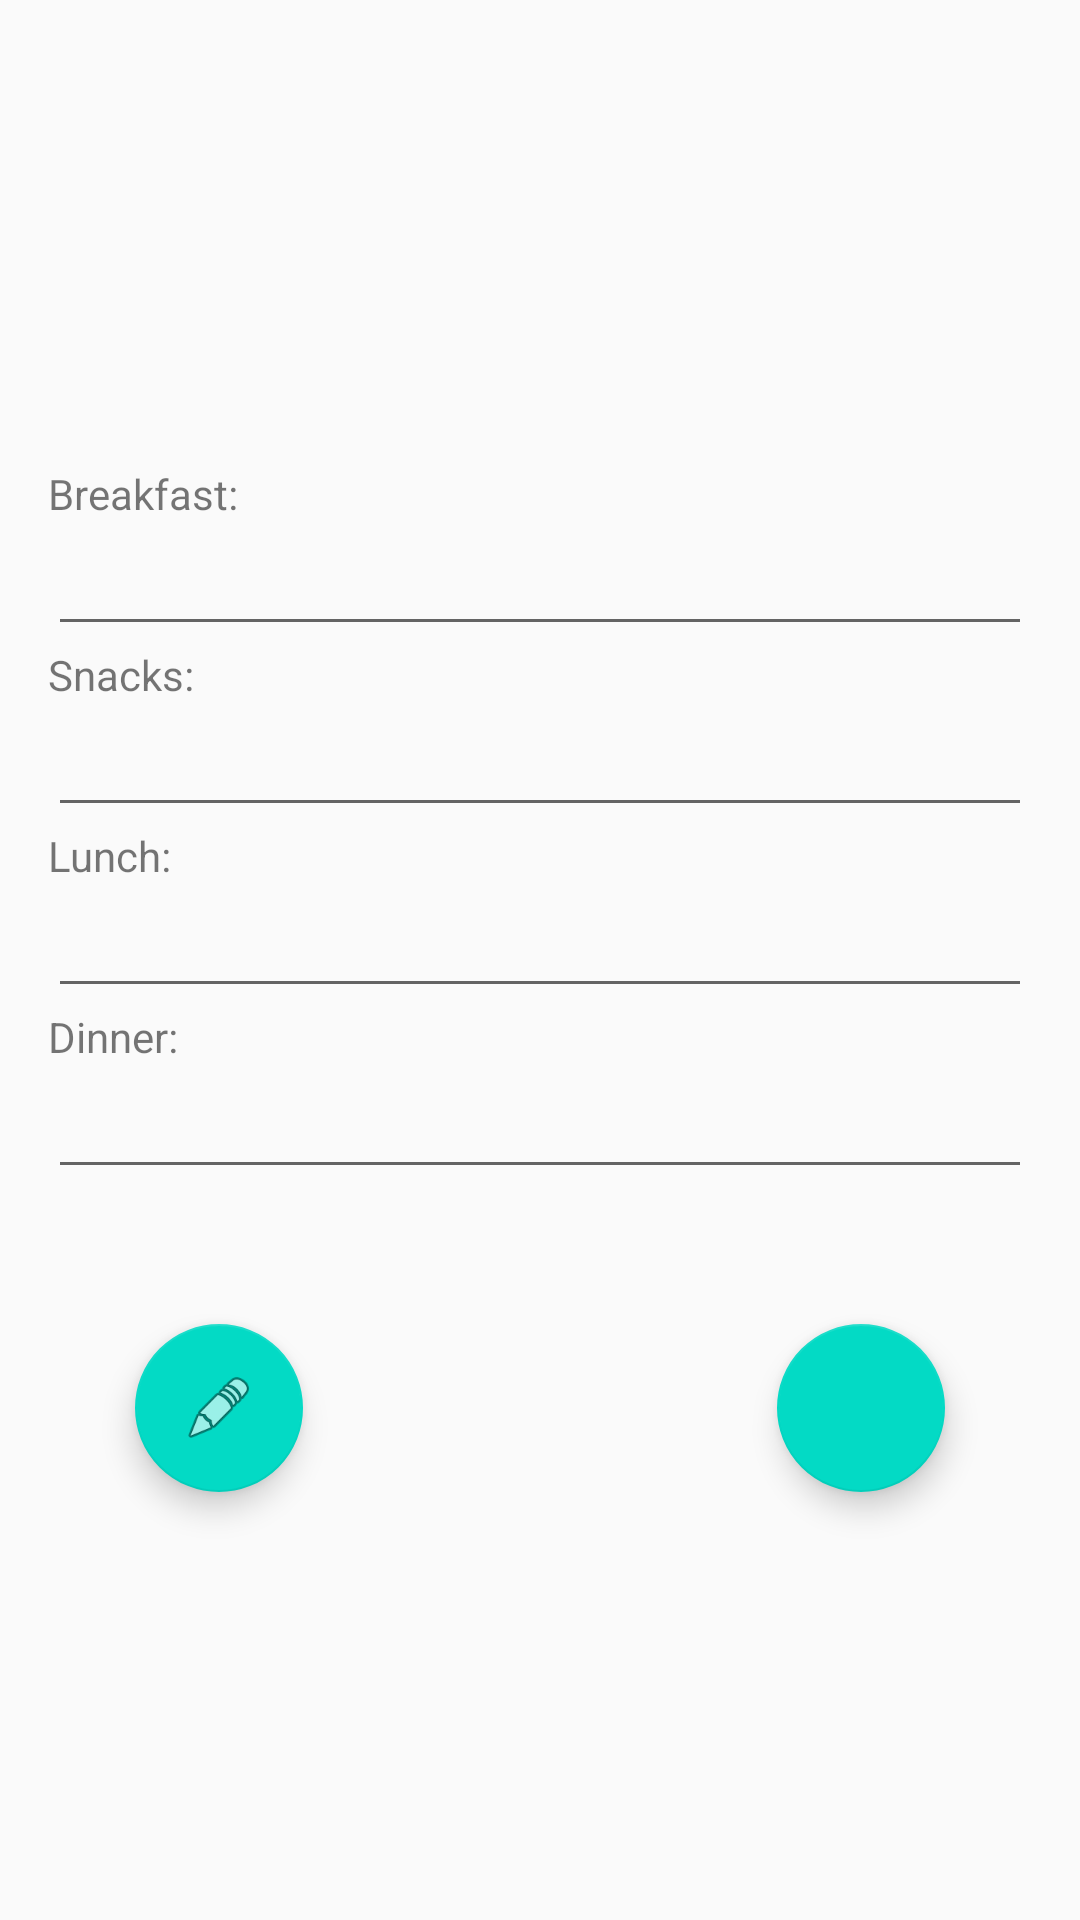

Where icons sit on this 1080px x 1920px app screen, as (x1, y1, x2, y2):
edit: (135, 1324, 303, 1492)
